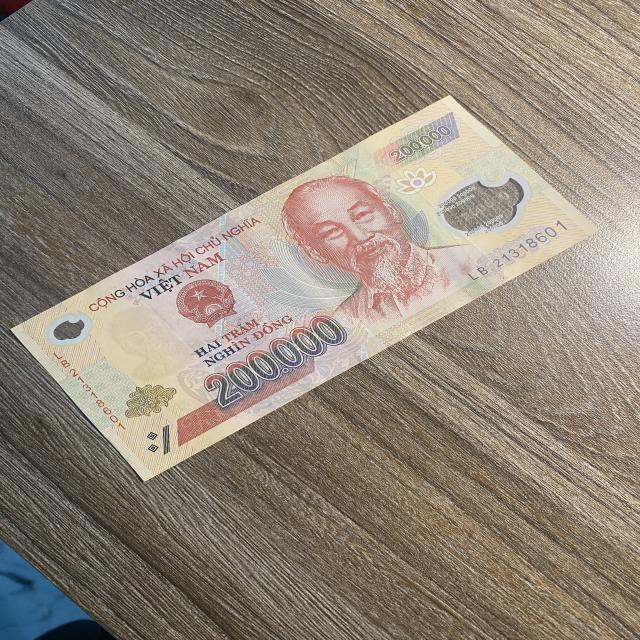200 000 VND: (0, 87, 595, 487)
